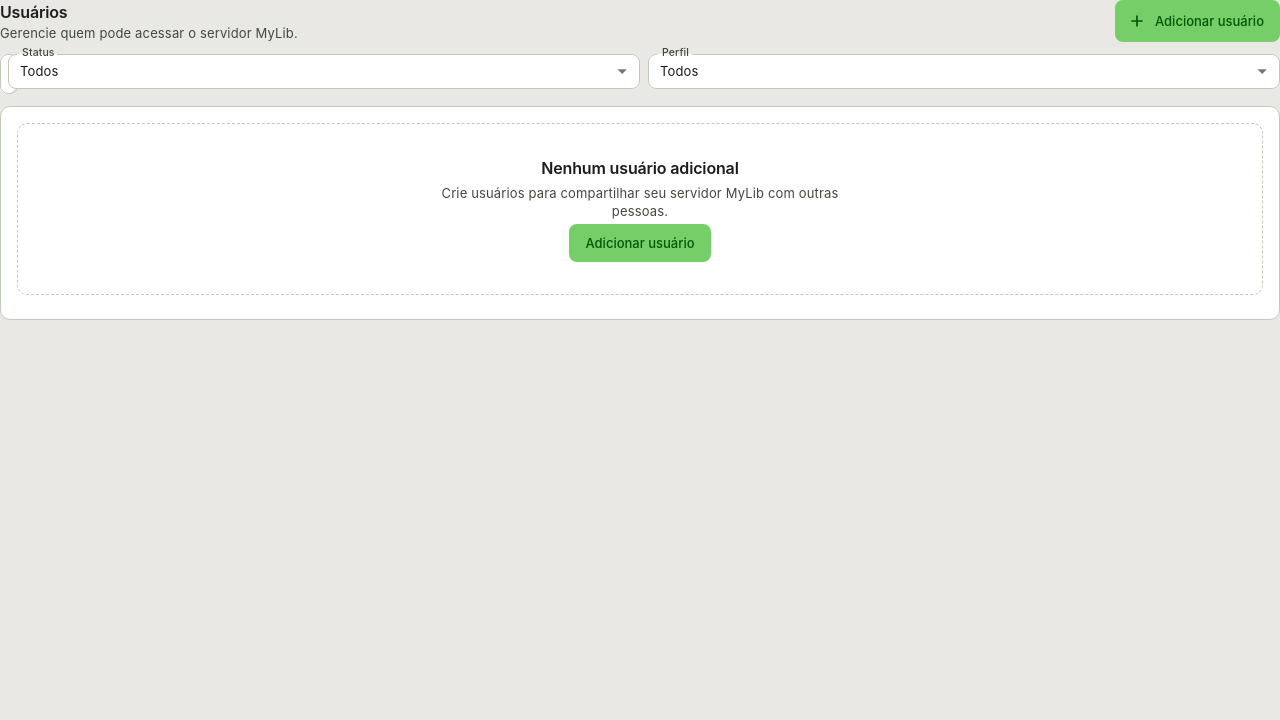
gestão de usuários › abre criação e apresenta seleção de bibliotecas
Click the 1st button "Adicionar usuário": (1198, 21) [1115,0,1279,42]
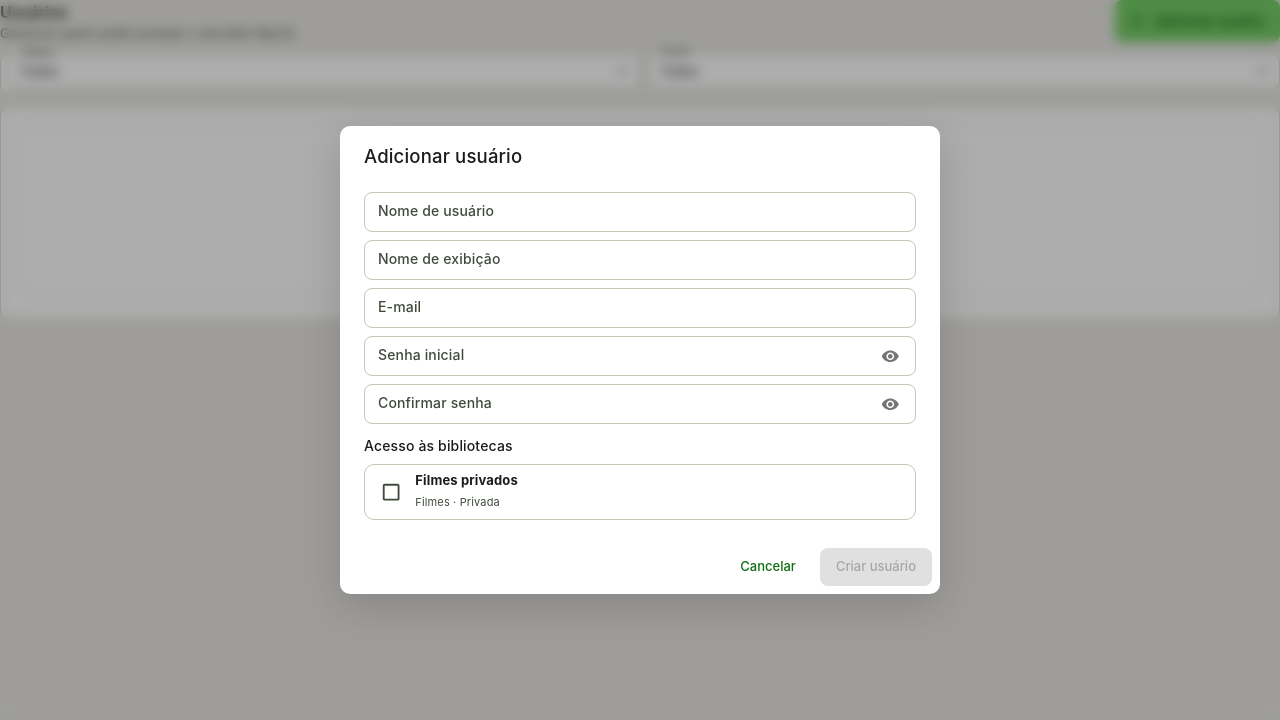
Now the dialog is shown, box [340,126,940,594]
Now the field labelled "Nome de usuário" is shown, box [364,192,916,232]
Now the text "Filmes privados" is shown, box [415,472,518,488]
